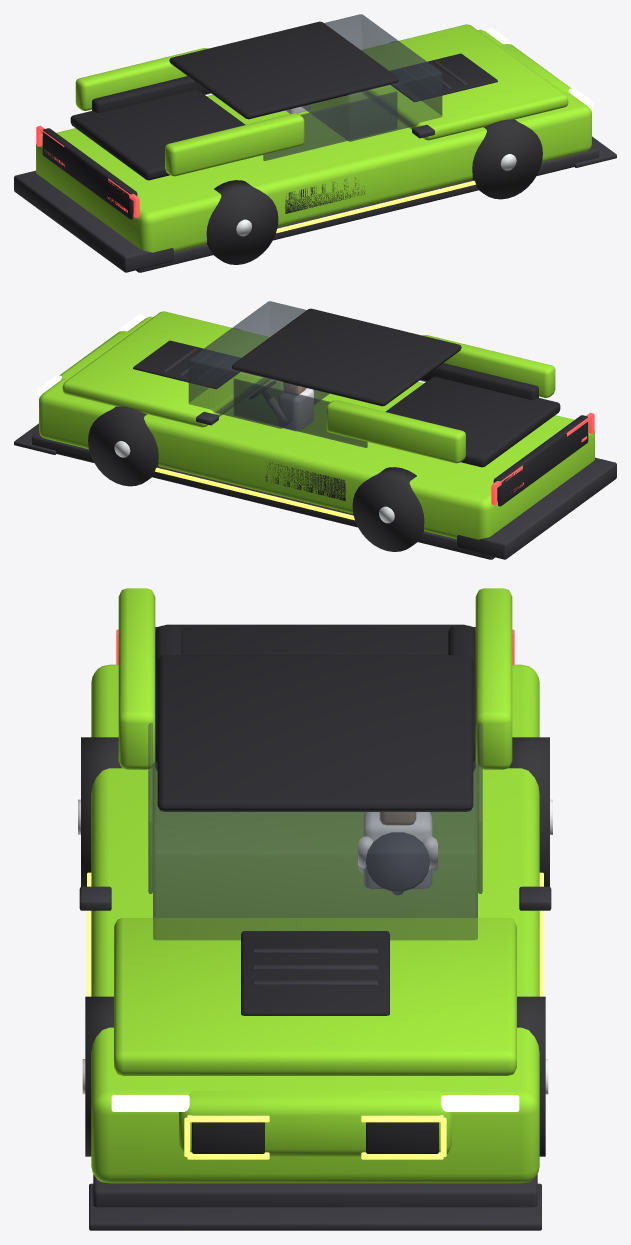
Rendered from private-car.glb.
The picture shows the model from 3 angles, top to bottom: view 1: azimuth 30°, elevation 25°; view 2: azimuth 150°, elevation 25°; view 3: azimuth 270°, elevation 25°; orthographic projection. The views are drawn at different scales.
Visible parts, largest first — view 1: Hyper_Body_Tub, Hyper_Roof_Black, Hyper_Hood_Lime, Hyper_Windshield, Hyper_Rear_Deck, Hyper_Buttress_-1, Hyper_Rear_Diffuser, Wheel_RR_Tire, Wheel_FR_Tire, Hyper_Side_Glass_-1, Hyper_Chassis, Hyper_Rear_Tail_Center (+7 smaller); view 2: Hyper_Body_Tub, Hyper_Roof_Black, Hyper_Hood_Lime, Hyper_Rear_Deck, Hyper_Windshield, Hyper_Buttress_1, Hyper_Rear_Diffuser, Wheel_RL_Tire, Wheel_FL_Tire, Hyper_Side_Glass_1, Hyper_Chassis, Hyper_Rear_Tail_Center (+8 smaller); view 3: Hyper_Body_Tub, Hyper_Hood_Lime, Hyper_Roof_Black, Hyper_Windshield, Hyper_Chassis, Hyper_Hood_Aero_Scoop, Hyper_Front_Splitter, Hyper_Nose_Center, Hyper_Rear_Deck, Hyper_Buttress_1, Hyper_Buttress_-1, Steering_Wheel (+13 smaller).
Boxes of the visible parts, x1,y1,x2,y2 form: Hyper_Body_Tub: [36, 29, 591, 252]; Hyper_Roof_Black: [169, 21, 398, 119]; Hyper_Hood_Lime: [361, 24, 568, 140]; Hyper_Windshield: [301, 14, 442, 141]; Hyper_Rear_Deck: [70, 89, 245, 180]; Hyper_Buttress_-1: [165, 113, 304, 176]; Hyper_Rear_Diffuser: [14, 170, 173, 272]; Wheel_RR_Tire: [206, 180, 278, 264]; Wheel_FR_Tire: [472, 119, 542, 199]; Hyper_Side_Glass_-1: [263, 91, 397, 160]; Hyper_Chassis: [136, 145, 598, 272]; Hyper_Rear_Tail_Center: [42, 128, 137, 219]; Hyper_Body_Tub: [39, 316, 594, 539]; Hyper_Roof_Black: [232, 308, 461, 406]; Hyper_Hood_Lime: [62, 311, 269, 427]; Hyper_Rear_Deck: [385, 376, 560, 467]; Hyper_Windshield: [188, 301, 329, 428]; Hyper_Buttress_1: [326, 400, 465, 463]; Hyper_Rear_Diffuser: [457, 457, 616, 559]; Wheel_RL_Tire: [352, 467, 424, 551]; Wheel_FL_Tire: [88, 406, 158, 486]; Hyper_Side_Glass_1: [233, 378, 367, 447]; Hyper_Chassis: [32, 432, 494, 559]; Hyper_Rear_Tail_Center: [493, 415, 588, 506]; Hyper_Body_Tub: [91, 664, 539, 1183]; Hyper_Hood_Lime: [114, 918, 516, 1075]; Hyper_Roof_Black: [157, 655, 473, 811]; Hyper_Windshield: [153, 761, 477, 940]; Hyper_Chassis: [93, 1174, 537, 1207]; Hyper_Hood_Aero_Scoop: [241, 931, 389, 1015]; Hyper_Front_Splitter: [89, 1183, 541, 1230]; Hyper_Nose_Center: [179, 1077, 451, 1156]; Hyper_Rear_Deck: [164, 624, 466, 654]; Hyper_Buttress_1: [475, 588, 512, 769]; Hyper_Buttress_-1: [118, 588, 155, 769]; Steering_Wheel: [366, 832, 429, 891].
Size of the model in its own units: 4.96 by 1.25 by 2.07.
